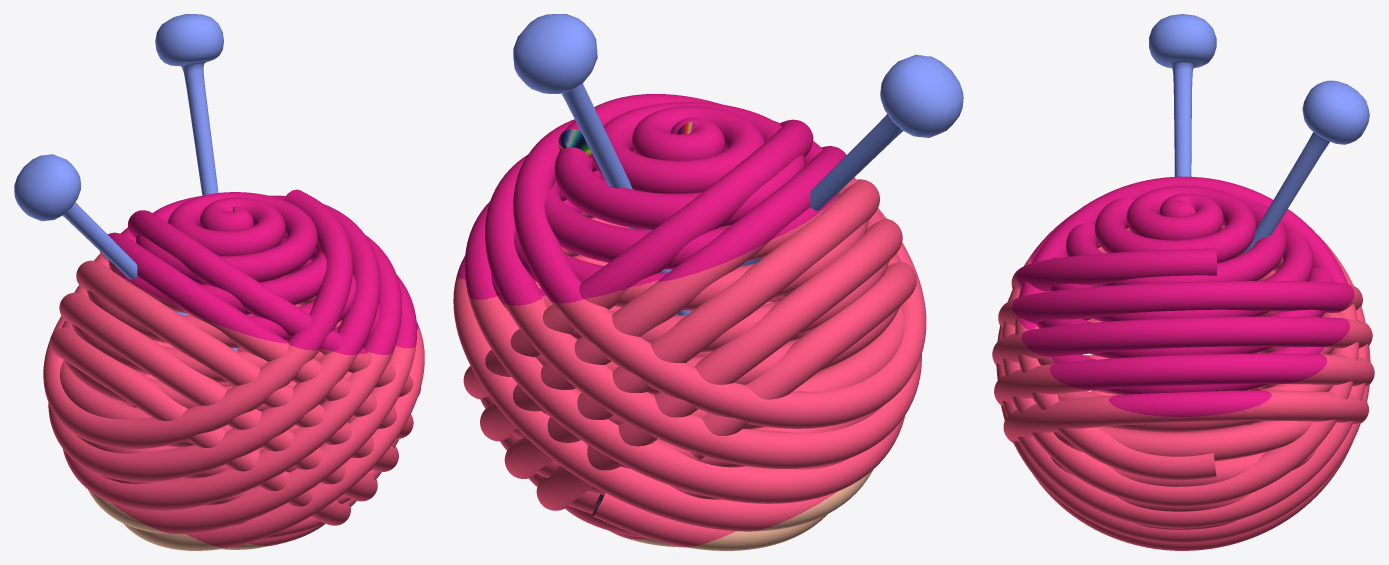
Rendered from Bola de estambre.fbx.
3 views of the same model, side by side, from view 1: azimuth 30°, elevation 25°; view 2: azimuth 150°, elevation 25°; view 3: azimuth 270°, elevation 25° (orthographic). The views are drawn at different scales.
Parts seen in each view (by area): view 1: Cube.008; view 2: Cube.008; view 3: Cube.008.
Part boxes in pixels (x1,y1,x2,y2): Cube.008: [14, 14, 424, 550]; Cube.008: [453, 14, 963, 550]; Cube.008: [992, 14, 1374, 550].
Size of the model in its own units: 143 by 165 by 125.
Materials: 1 (1 with a texture image).
